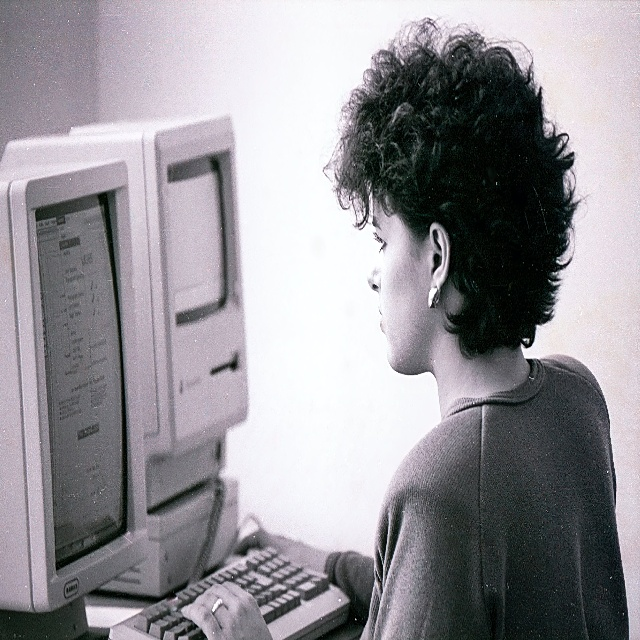Sin_guantes: (181, 579, 275, 640)
